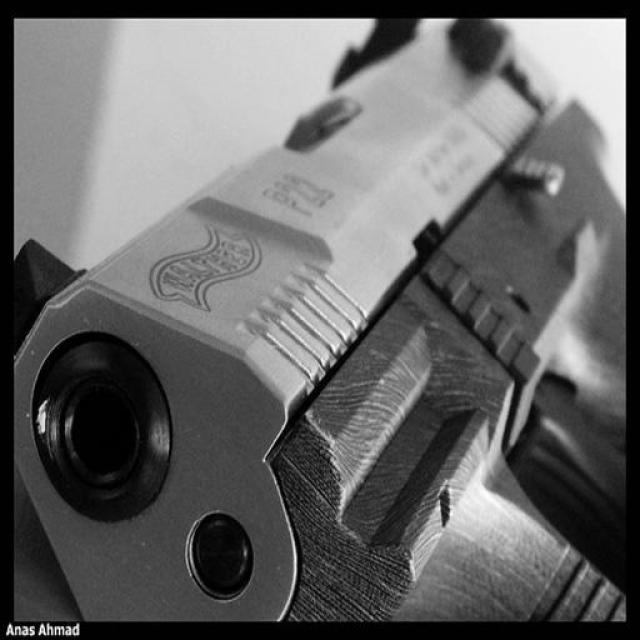pistol: (11, 16, 623, 621)
